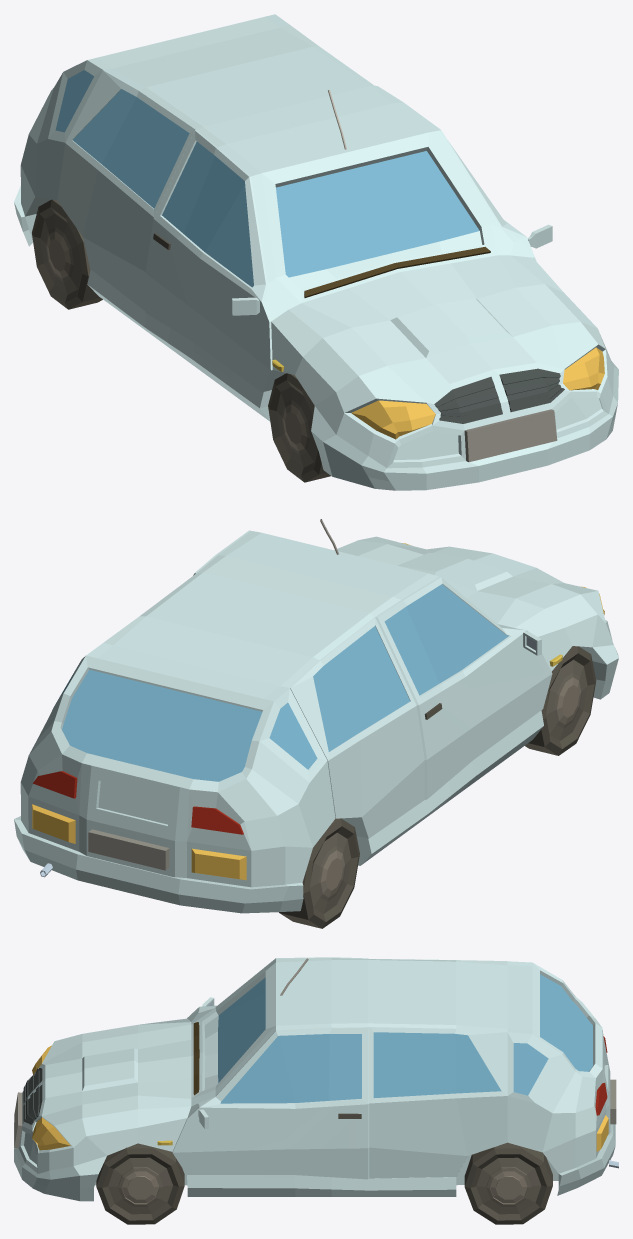
Rendered from Car_A.fbx.
The picture shows the model from 3 angles, top to bottom: view 1: azimuth 30°, elevation 25°; view 2: azimuth 150°, elevation 25°; view 3: azimuth 270°, elevation 25°; orthographic projection. The views are drawn at different scales.
Parts seen in each view (by area): view 1: Car_1, Wheel_1.009, Wheel_1.007; view 2: Car_1, Wheel_1.009, Wheel_1.007; view 3: Car_1, Wheel_1.008, Wheel_1.006.
Boxes of the visible parts, bbox=[...] form: Car_1: bbox=[14, 14, 618, 490]; Wheel_1.009: bbox=[32, 199, 102, 309]; Wheel_1.007: bbox=[268, 373, 330, 482]; Car_1: bbox=[14, 519, 618, 913]; Wheel_1.009: bbox=[279, 818, 359, 928]; Wheel_1.007: bbox=[525, 646, 596, 755]; Car_1: bbox=[14, 957, 618, 1201]; Wheel_1.008: bbox=[464, 1142, 552, 1224]; Wheel_1.006: bbox=[96, 1143, 184, 1224].
Size of the model in its own units: 214 by 178 by 455.
